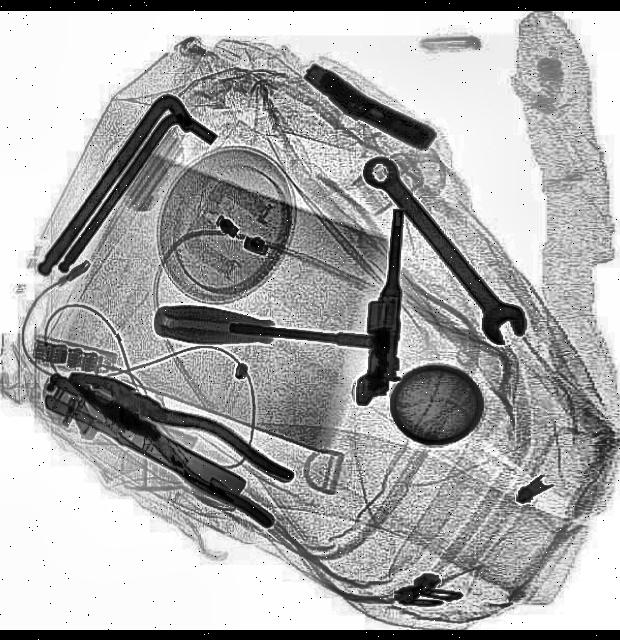Gun: (299, 47, 439, 166), (356, 208, 416, 410)
Pliers: (57, 342, 303, 534)
Wrench: (354, 146, 538, 357)
